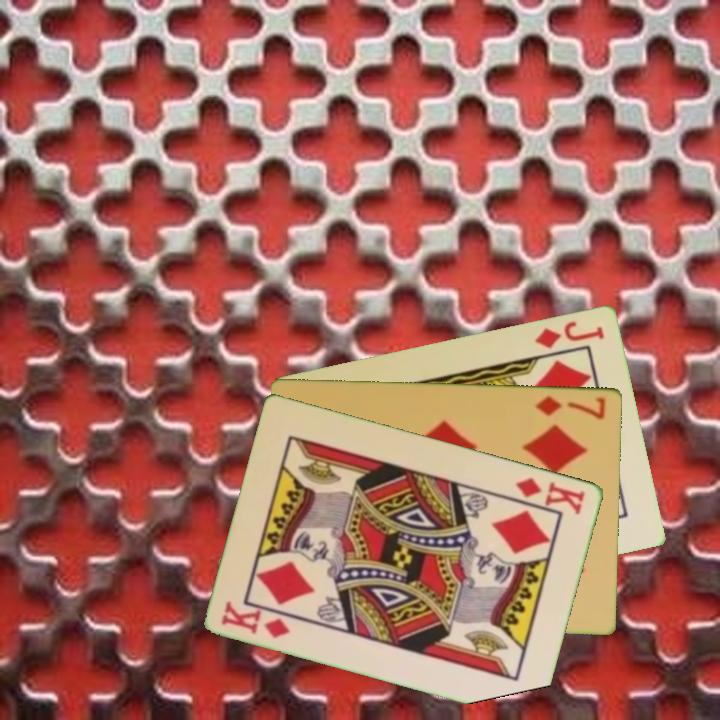7d: (533, 392, 609, 422)
Jd: (531, 317, 607, 351)
Kd: (512, 473, 588, 517), (218, 597, 294, 641)
